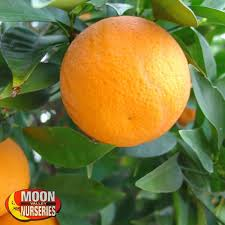orange: (53, 12, 194, 152)
